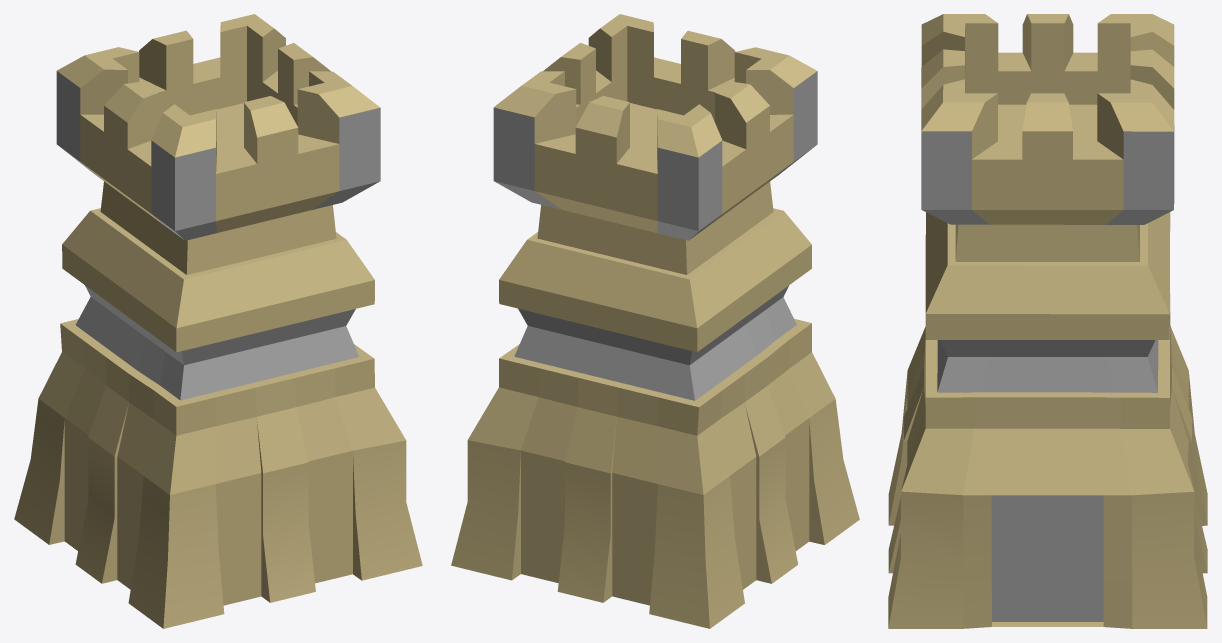
Rendered from generator.fbx.
3 renders of one model, left to right at view 1: azimuth 30°, elevation 25°; view 2: azimuth 150°, elevation 25°; view 3: azimuth 270°, elevation 25°, orthographic. The views are drawn at different scales.
Parts seen in each view (by area): view 1: Generator_Tower; view 2: Generator_Tower; view 3: Generator_Tower.
Boxes of the visible parts, x1=… form: Generator_Tower: x1=14, y1=14, x2=422, y2=628; Generator_Tower: x1=451, y1=14, x2=859, y2=628; Generator_Tower: x1=888, y1=14, x2=1207, y2=628.
Bounding box in the file's own units: 1.95 × 3.4 × 1.95.
